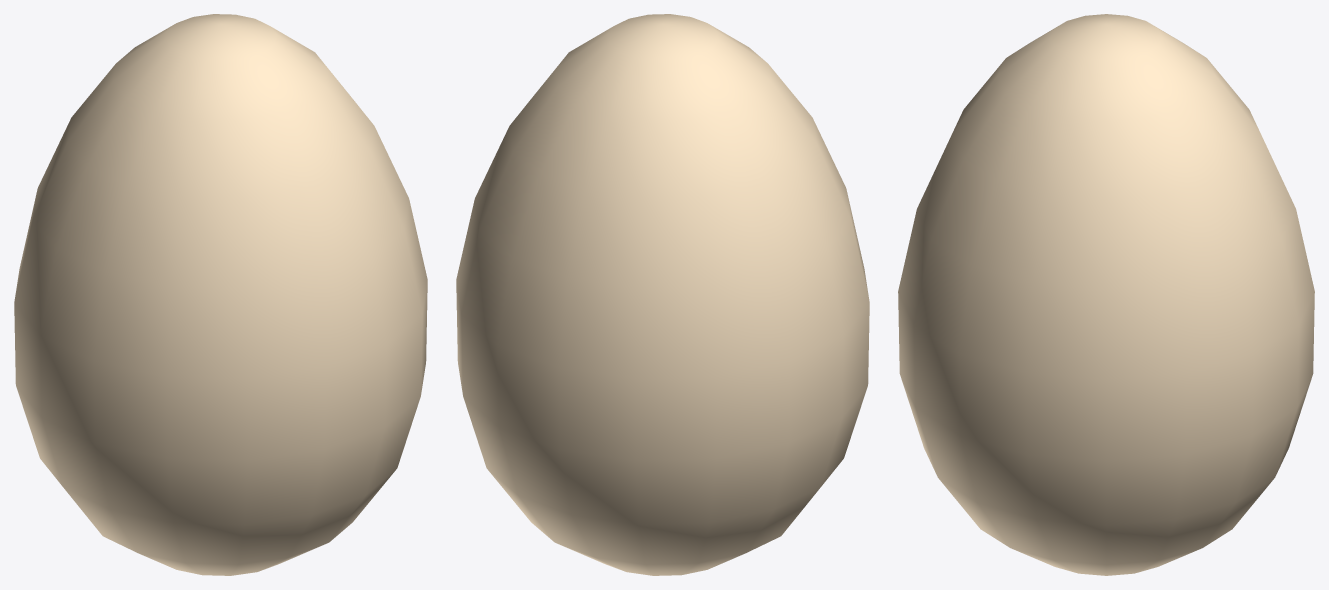
File: Egg.glb
The picture shows the model from 3 angles, left to right: view 1: azimuth 30°, elevation 25°; view 2: azimuth 150°, elevation 25°; view 3: azimuth 270°, elevation 25°; orthographic projection.
Visible parts, largest first — view 1: EggShell; view 2: EggShell; view 3: EggShell.
Boxes of the visible parts, x1=… form: EggShell: x1=14, y1=14, x2=427, y2=575; EggShell: x1=456, y1=14, x2=869, y2=575; EggShell: x1=898, y1=14, x2=1314, y2=575.
Bounding box in the file's own units: 0.1288 × 0.182 × 0.1288.
